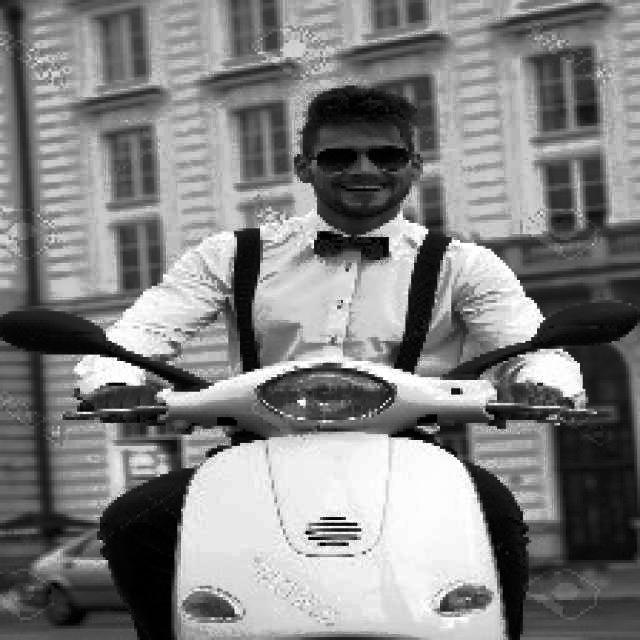Bike: (105, 369, 540, 640)
